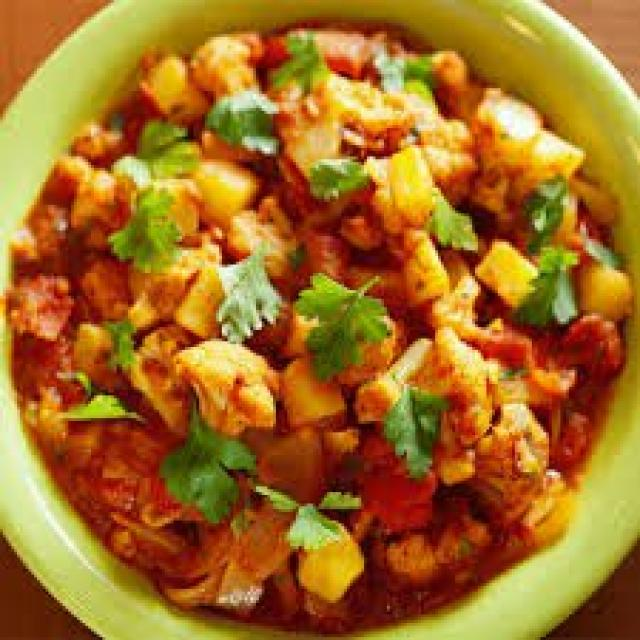cauliflower: (47, 97, 582, 597)
